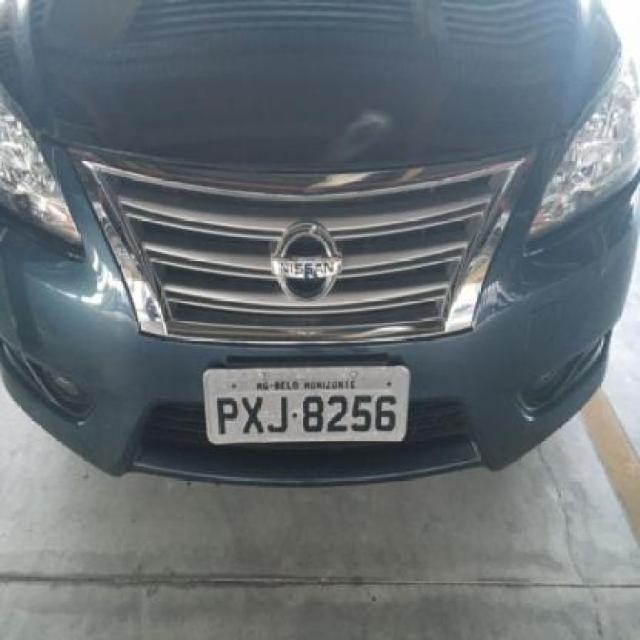old_plate: (197, 356, 419, 449)
